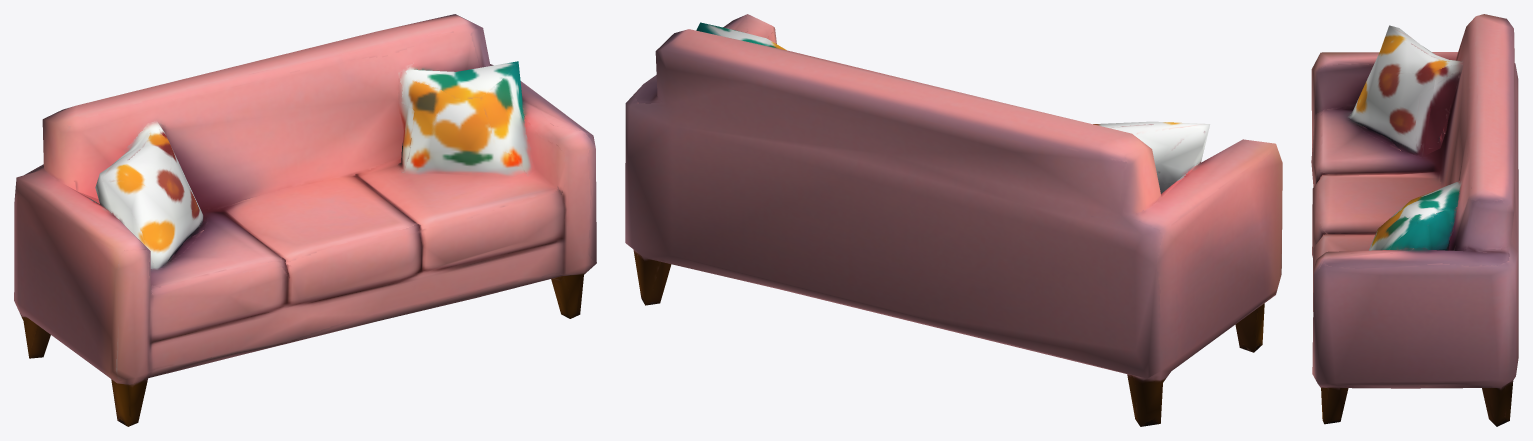
The model's file is dusty-rose-sofa.glb.
3 views of the same model, side by side, from view 1: azimuth 30°, elevation 25°; view 2: azimuth 150°, elevation 25°; view 3: azimuth 270°, elevation 25° (orthographic). The views are drawn at different scales.
Visible parts, largest first — view 1: geometry_0.001; view 2: geometry_0.001; view 3: geometry_0.001.
Boxes of the visible parts, bbox=[...] form: geometry_0.001: bbox=[14, 14, 596, 426]; geometry_0.001: bbox=[625, 14, 1282, 426]; geometry_0.001: bbox=[1311, 14, 1518, 426].
Size of the model in its own units: 0.9996 by 0.4778 by 0.4044.
Materials: 1 (1 with a texture image).
